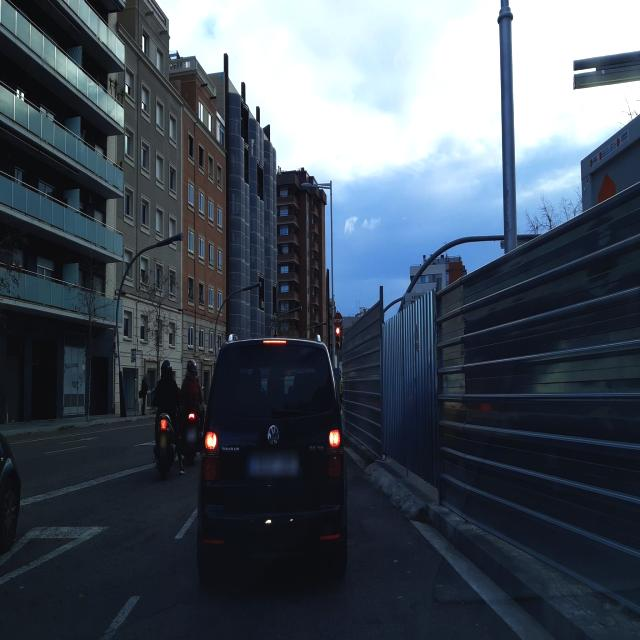bike: (152, 396, 185, 480), (182, 392, 204, 468)
car: (196, 335, 348, 586), (0, 388, 22, 563)
